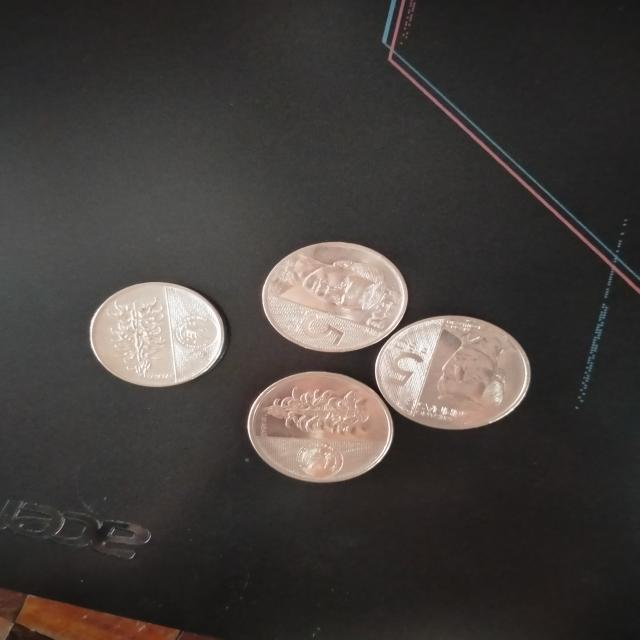5_New_Back: (257, 384, 380, 442)
5_New_Front: (368, 329, 436, 396), (293, 306, 367, 358)
